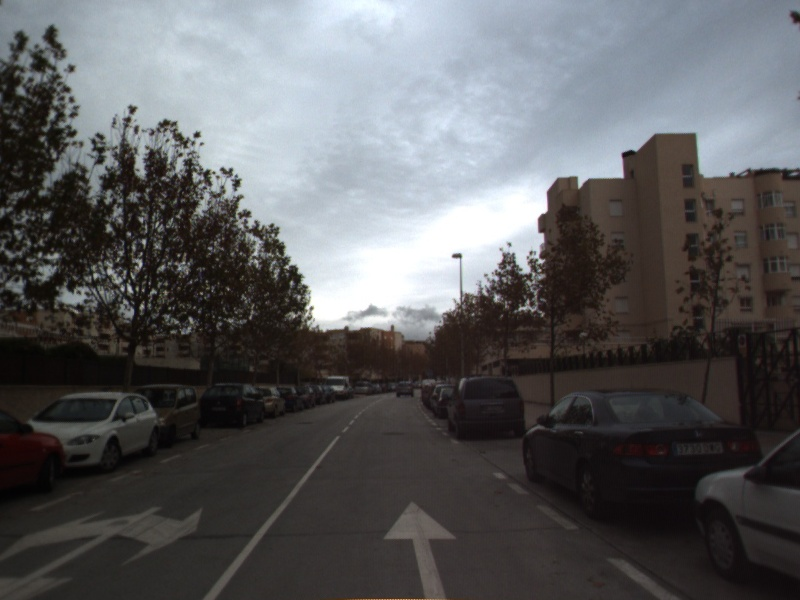STRAIGHT: (381, 496, 461, 600)
